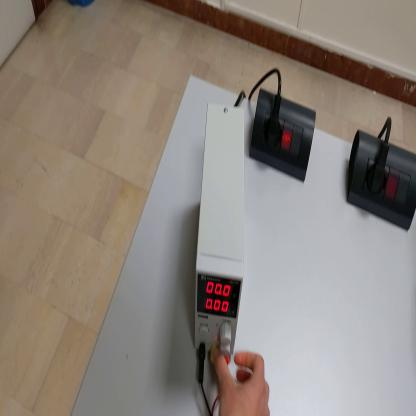hand: (214, 348, 270, 415)
power supply: (195, 107, 246, 368)
socket: (347, 121, 416, 232), (250, 89, 318, 184)
